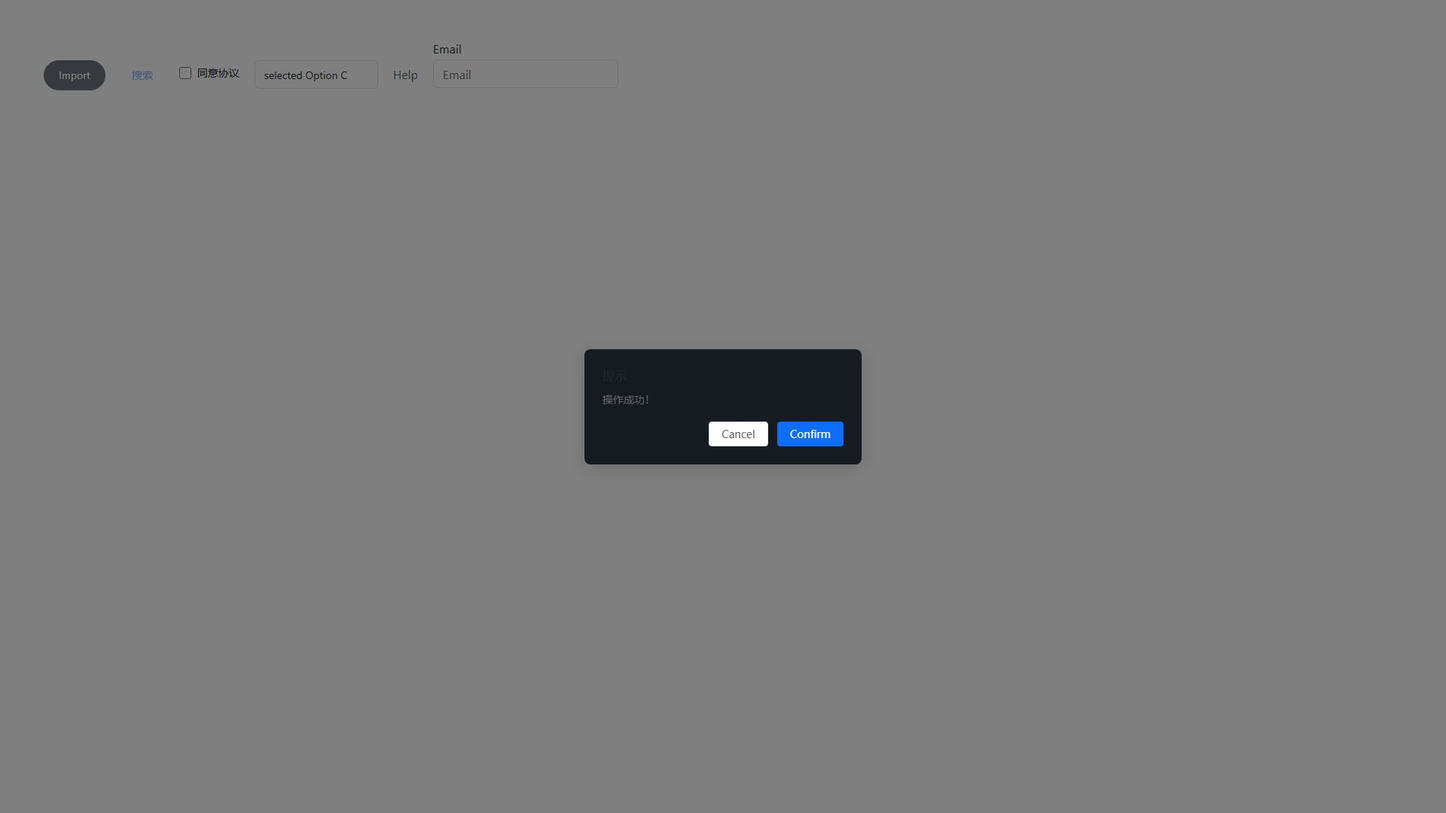button: (44, 60, 105, 90), (777, 421, 844, 446), (709, 421, 768, 446), (120, 64, 164, 86)
checkbox: (179, 67, 191, 79)
icon: (197, 65, 239, 80)
input: (433, 59, 618, 88)
link: (393, 66, 418, 82)
modal: (0, 0, 1446, 813)
radio: (179, 65, 239, 80)
select: (254, 60, 378, 89)
